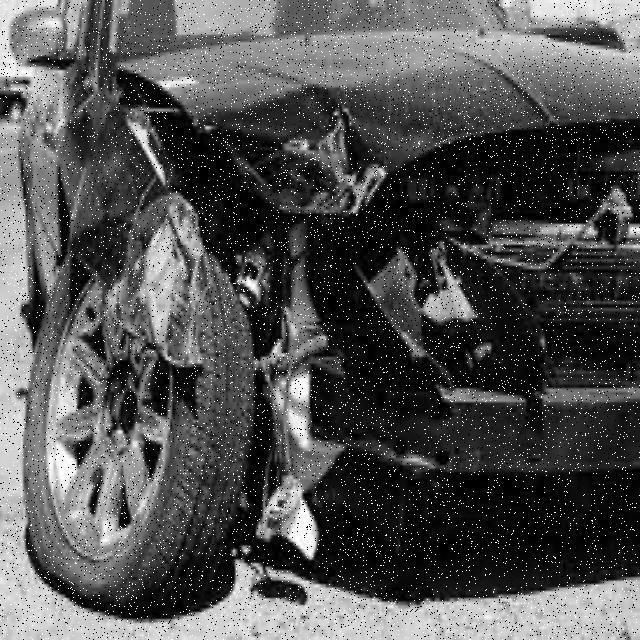bonnet-dent: (106, 21, 639, 224)
